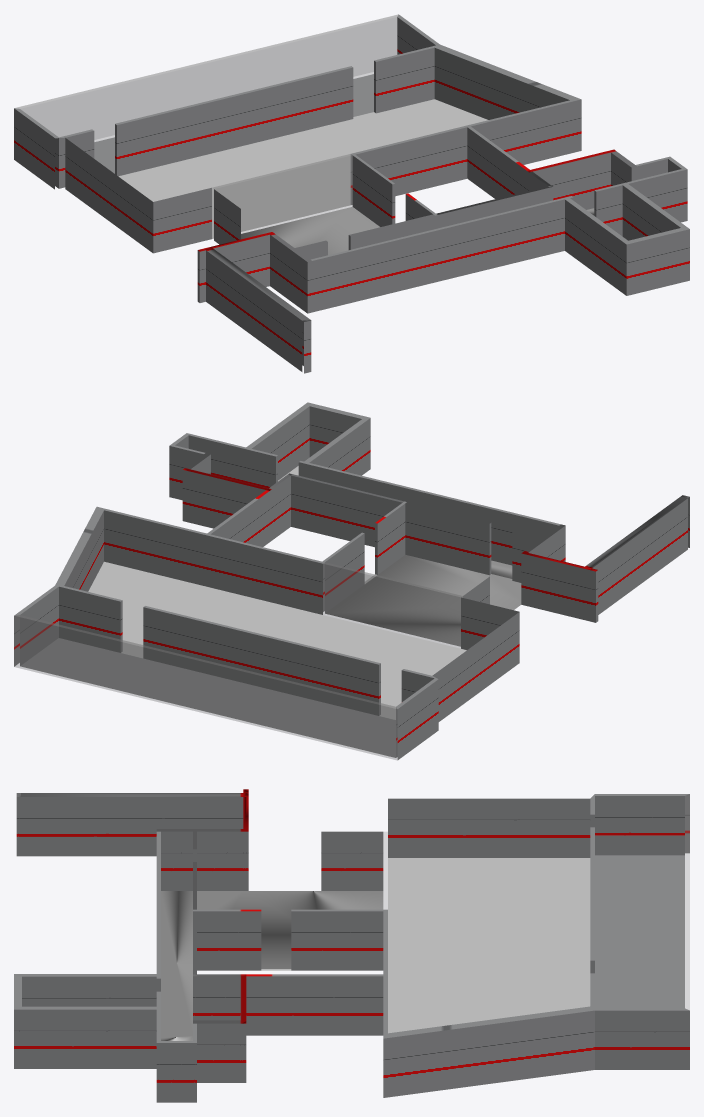
Rendered from Menu.FBX.
The picture shows the model from 3 angles, top to bottom: view 1: azimuth 30°, elevation 25°; view 2: azimuth 150°, elevation 25°; view 3: azimuth 270°, elevation 25°; orthographic projection. The views are drawn at different scales.
Visible parts, largest first — view 1: Plane002; view 2: Plane002; view 3: Plane002.
Part boxes in pixels (x1,y1,x2,y2): Plane002: (14,14,689,373); Plane002: (14,402,689,760); Plane002: (14,789,689,1102).
Size of the model in its own units: 2490 by 272 by 2805.
